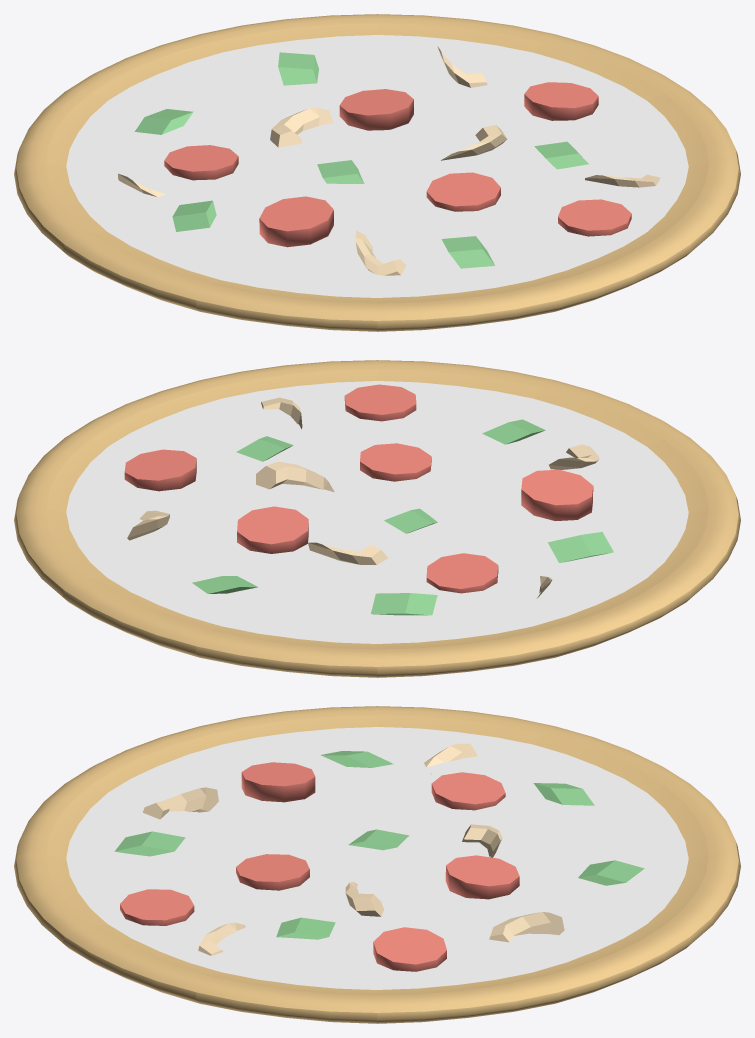
File: untitled.fbx_no_bite.fbx
3 renders of one model, top to bottom at view 1: azimuth 30°, elevation 25°; view 2: azimuth 150°, elevation 25°; view 3: azimuth 270°, elevation 25°, orthographic.
Visible parts, largest first — view 1: mesh_1850817464; view 2: mesh_1850817464; view 3: mesh_1850817464.
Boxes of the visible parts, box(x1,y1,x2,y2) form: mesh_1850817464: box(14, 14, 740, 331); mesh_1850817464: box(14, 360, 740, 677); mesh_1850817464: box(14, 706, 740, 1023).
Bounding box in the file's own units: 58.61 × 5.13 × 58.61.
